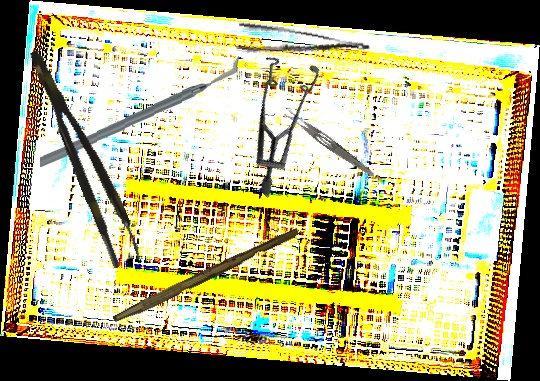Chopper: (36, 55, 243, 168)
Dressing Forceps: (234, 19, 371, 74), (281, 106, 379, 180)
Scalpel Handle: (111, 223, 301, 329)
Speculum: (197, 37, 359, 199)
Tissue Forceps: (26, 42, 145, 269)
